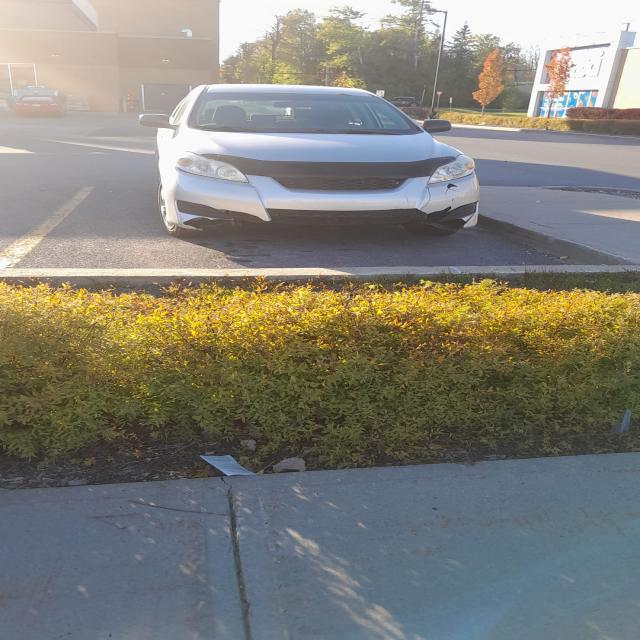plaque: (32, 104, 41, 106)
